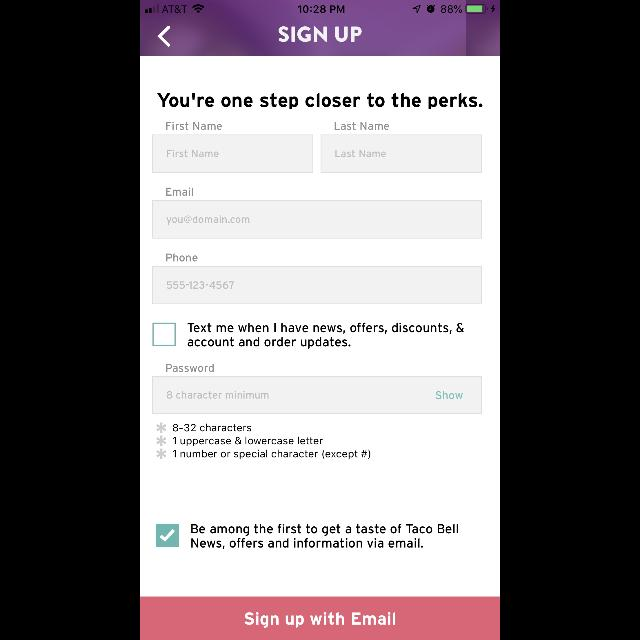checkbox: (152, 323, 175, 347), (156, 524, 178, 546)
icon: (157, 27, 170, 48)
input: (152, 376, 482, 414), (152, 201, 482, 239), (152, 267, 482, 305), (152, 135, 314, 173), (320, 135, 482, 173)
text: (188, 323, 464, 349), (192, 524, 458, 550), (158, 92, 482, 110), (174, 450, 370, 460), (173, 438, 323, 447), (278, 26, 362, 42), (166, 216, 250, 224), (173, 424, 251, 432), (167, 392, 269, 398), (166, 122, 222, 130), (334, 122, 390, 130), (168, 282, 235, 288), (336, 150, 386, 158), (168, 150, 218, 158), (166, 364, 214, 372), (166, 254, 198, 262), (166, 188, 194, 196), (436, 391, 462, 399)
textbutton: (140, 596, 500, 640)
uppertaskbar: (140, 0, 500, 14)
